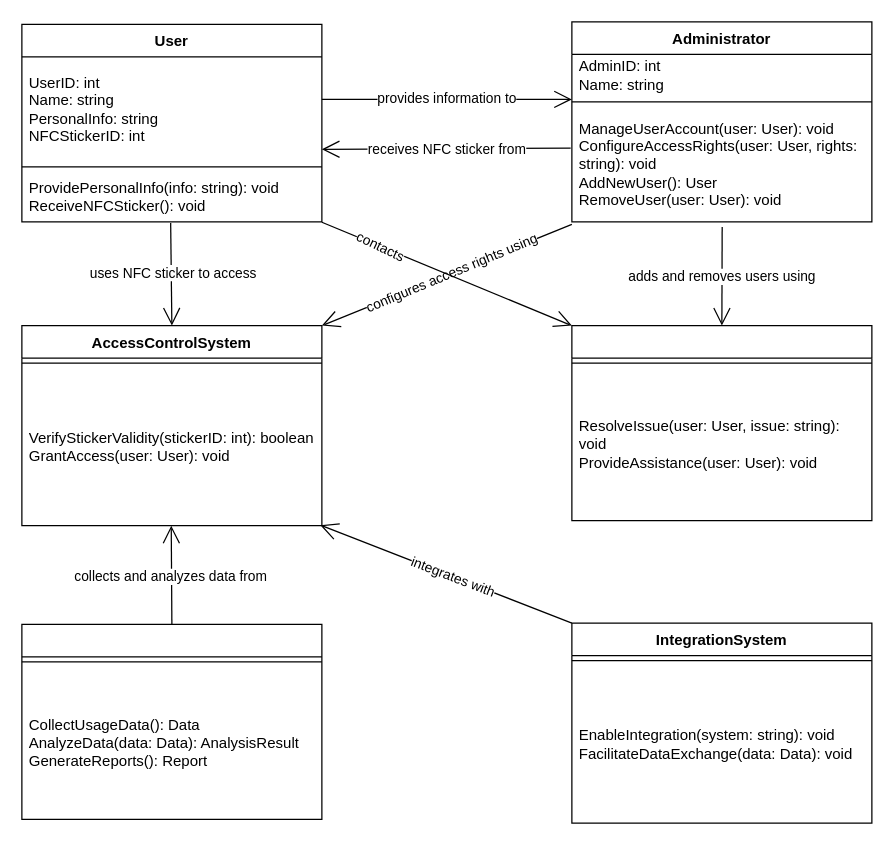
Some shapes in this 894 by 845 pixel diagram are drawn without their labels. Here are the shapes that lost their labels. From the top down, the box of each, then its label:
(571, 324, 872, 521): TechnicalSupport
(21, 623, 322, 819): MonitoringAndAnalyticsSystem
